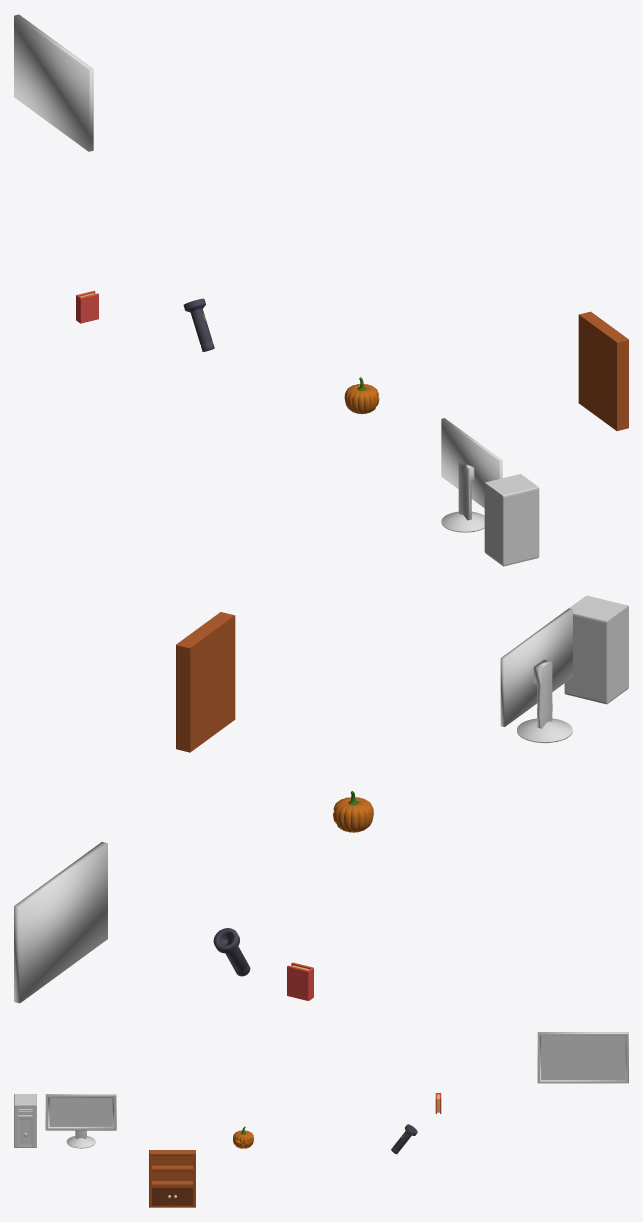
The model's file is Abobora.fbx.
3 renders of one model, top to bottom at view 1: azimuth 30°, elevation 25°; view 2: azimuth 150°, elevation 25°; view 3: azimuth 270°, elevation 25°, orthographic. The views are drawn at different scales.
Parts seen in each view (by area): view 1: Cube.005, Cube.006, Cube.004, Cube.003, Cylinder.003, Cube.002, Cylinder; view 2: Cube.005, Cube.006, Cube.004, Cube.003, Cylinder.003, Cube.002, Cylinder.001, Cylinder, Cube.001; view 3: Cube.005, Cube.006, Cube.003, Cube.004, Cylinder.003, Cylinder, Cylinder.001.
Boxes of the visible parts, box(x1,y1,x2,y2) form: Cube.005: box(14, 14, 93, 151); Cube.006: box(578, 311, 628, 430); Cube.004: box(484, 474, 539, 566); Cube.003: box(441, 418, 502, 507); Cylinder.003: box(344, 384, 379, 414); Cube.002: box(458, 461, 474, 520); Cylinder: box(183, 298, 214, 351); Cube.005: box(14, 842, 107, 1003); Cube.006: box(176, 612, 235, 752); Cube.004: box(564, 595, 628, 704); Cube.003: box(500, 608, 572, 726); Cylinder.003: box(333, 797, 373, 832); Cube.002: box(533, 659, 552, 728); Cylinder.001: box(517, 718, 572, 743); Cylinder: box(213, 928, 250, 976); Cube.001: box(287, 962, 313, 1000); Cube.005: box(537, 1032, 628, 1083); Cube.006: box(149, 1150, 195, 1207); Cube.003: box(45, 1094, 116, 1130); Cube.004: box(14, 1094, 36, 1147); Cylinder.003: box(233, 1130, 253, 1148); Cylinder: box(391, 1124, 417, 1154); Cylinder.001: box(66, 1136, 95, 1148).
Size of the model in its own units: 7602 by 4518 by 20857.
